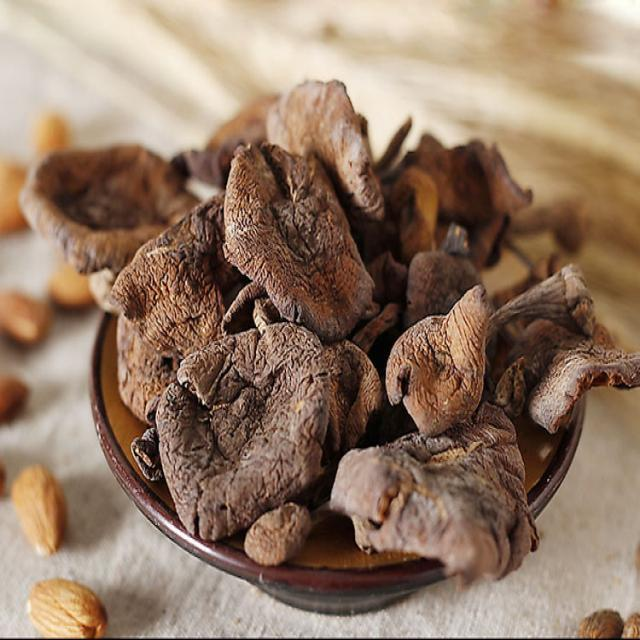Armillaria mellea: (113, 77, 640, 583), (20, 148, 205, 274)
